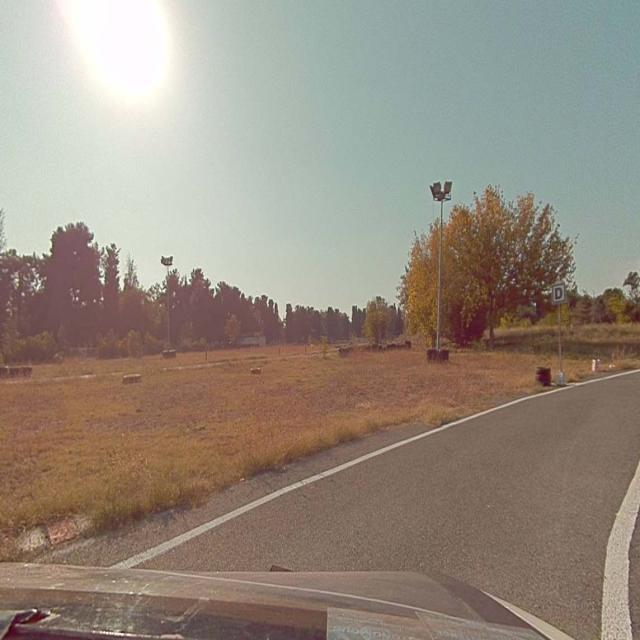durak: (552, 285, 565, 302)
